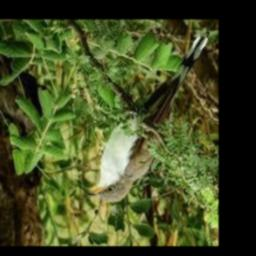Cuckoo: (84, 35, 209, 202)
